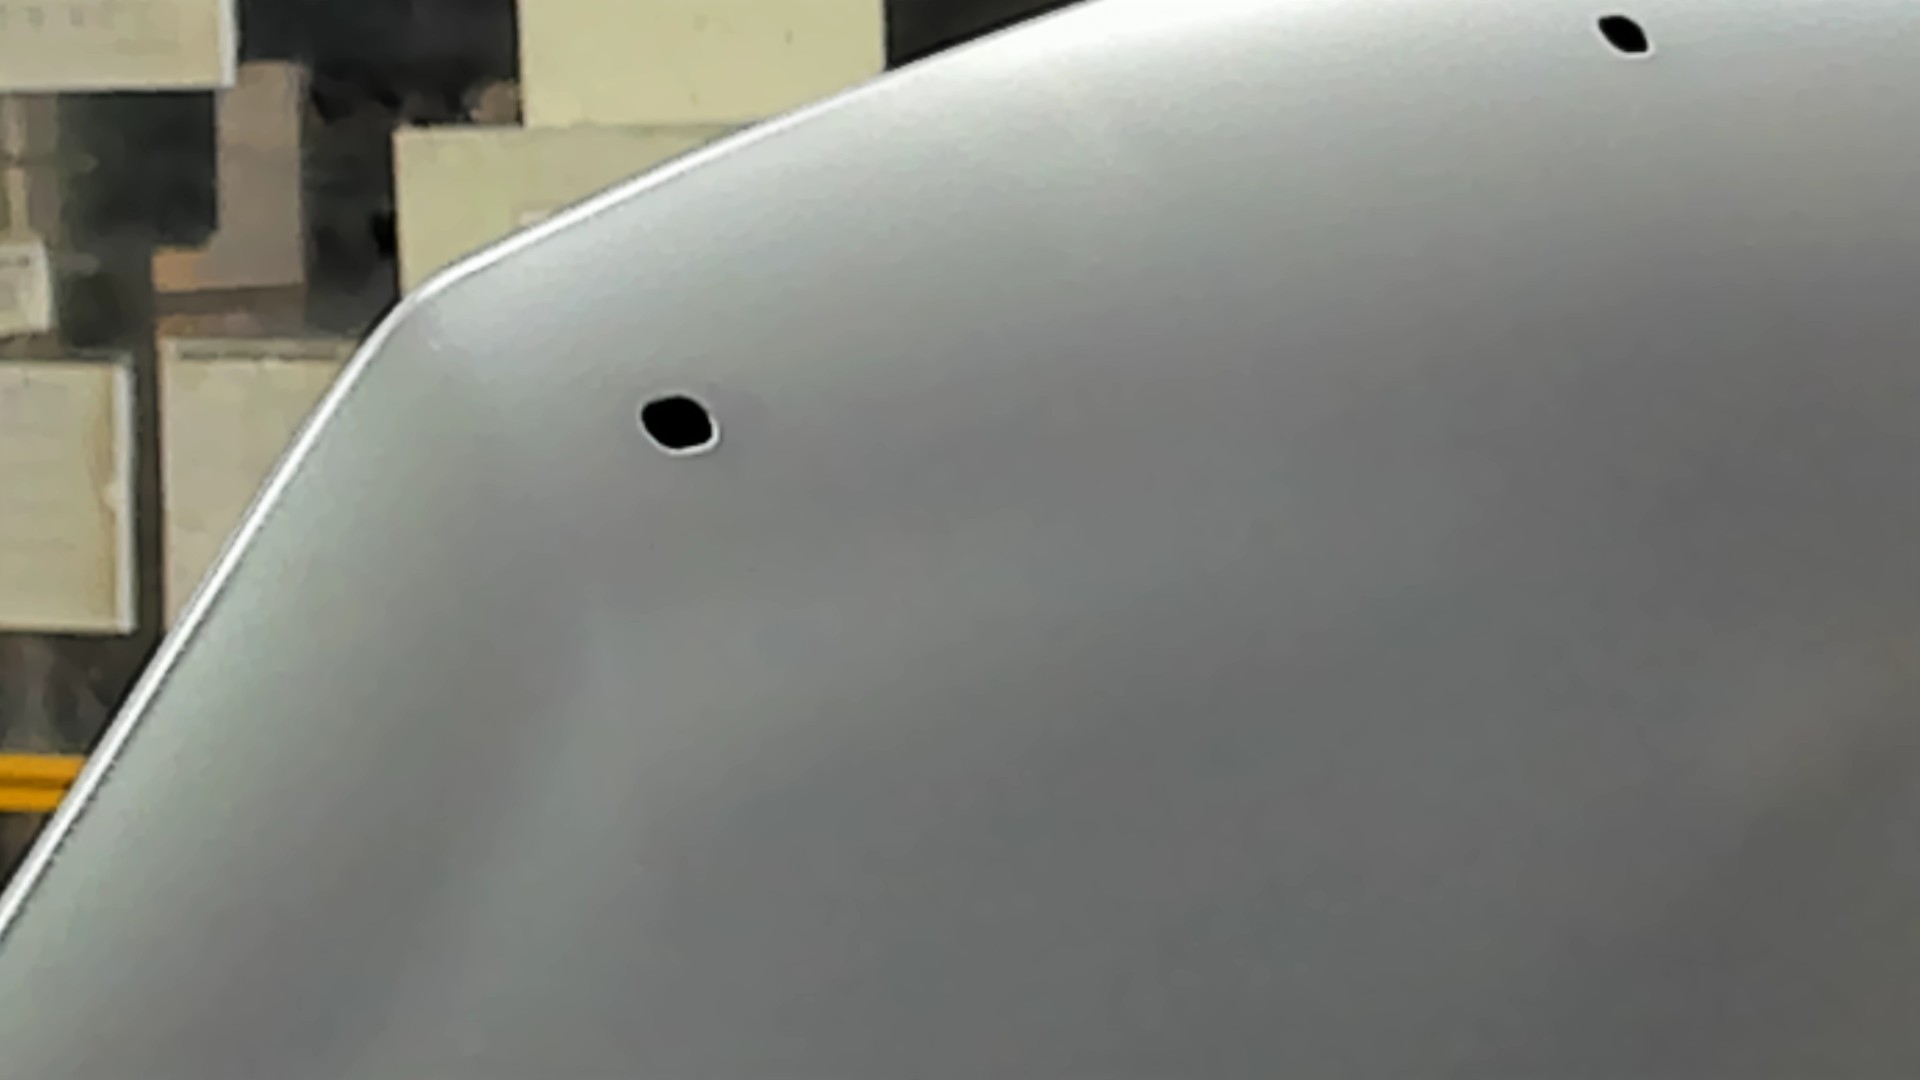amorfo: (634, 394, 727, 462), (1588, 7, 1652, 61)
capo: (831, 162, 1920, 1080)
